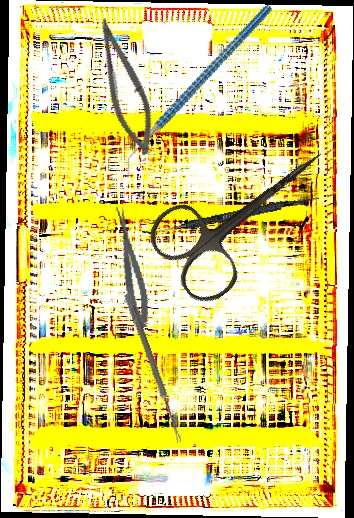Chopper: (84, 4, 311, 179)
Iris Scissors: (139, 114, 354, 312)
Micro Scissor: (81, 13, 167, 160), (111, 204, 154, 330)
Spatula Surgical: (142, 190, 320, 242)
Surgical Spoon: (122, 292, 185, 444)
